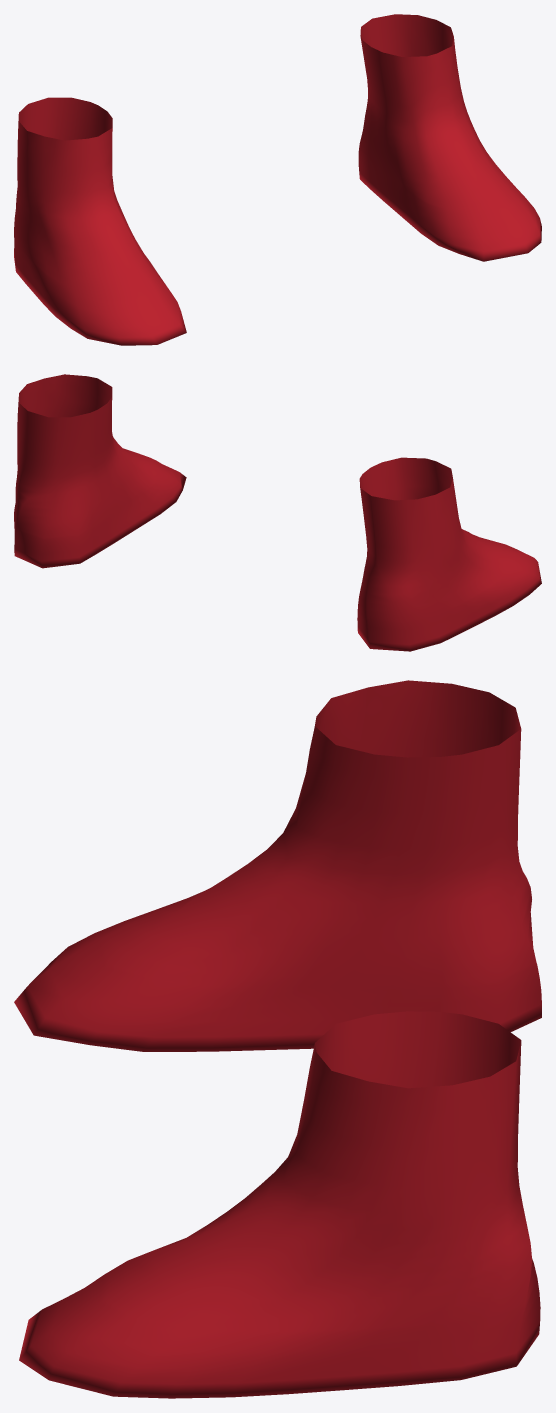
Rendered from high_tops.glb.
3 renders of one model, top to bottom at view 1: azimuth 30°, elevation 25°; view 2: azimuth 150°, elevation 25°; view 3: azimuth 270°, elevation 25°, orthographic. The views are drawn at different scales.
Visible parts, largest first — view 1: high_tops; view 2: high_tops; view 3: high_tops.
Boxes of the visible parts, x1,y1,x2,y2 form: high_tops: (14, 14, 541, 345); high_tops: (14, 374, 541, 651); high_tops: (14, 680, 541, 1398).
Bounding box in the file's own units: 0.5438 × 0.1677 × 0.2741.
